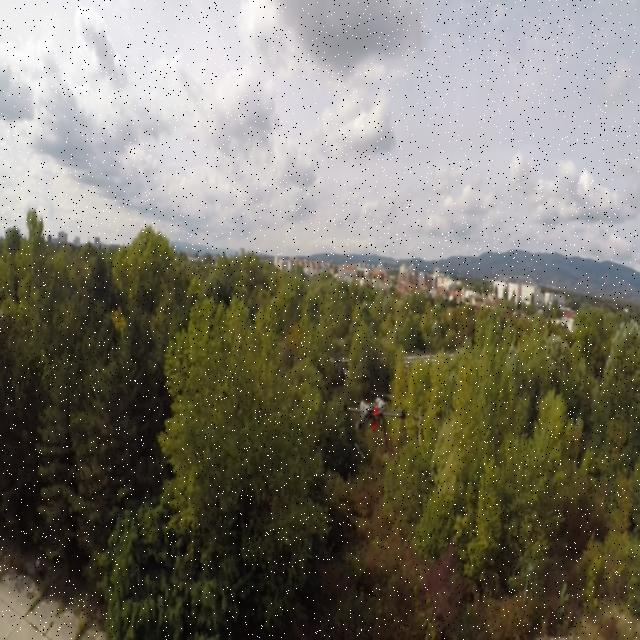UAV: (340, 388, 410, 463)
